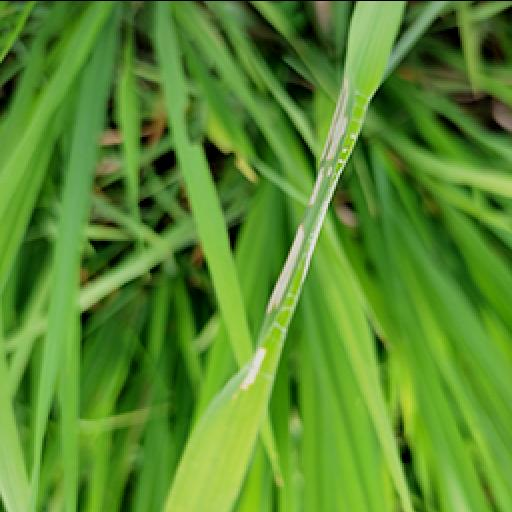Bacterial Leaf Blight: (294, 66, 368, 204), (250, 214, 314, 320), (226, 334, 276, 410)
